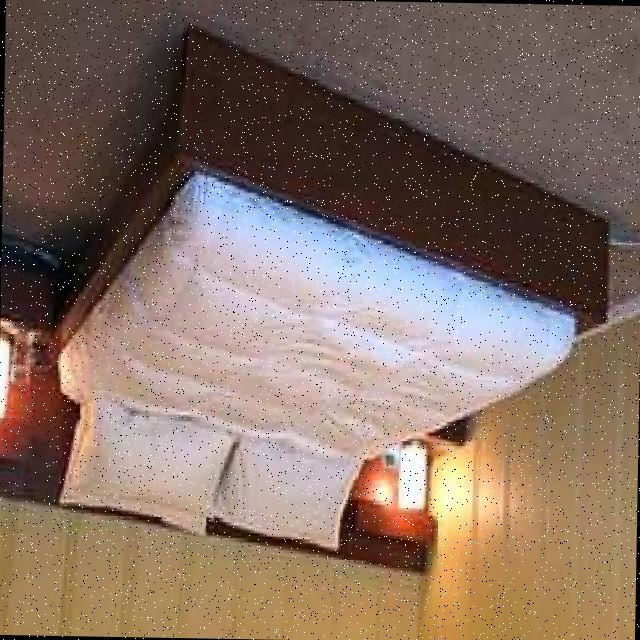Bed: (21, 25, 620, 567)
